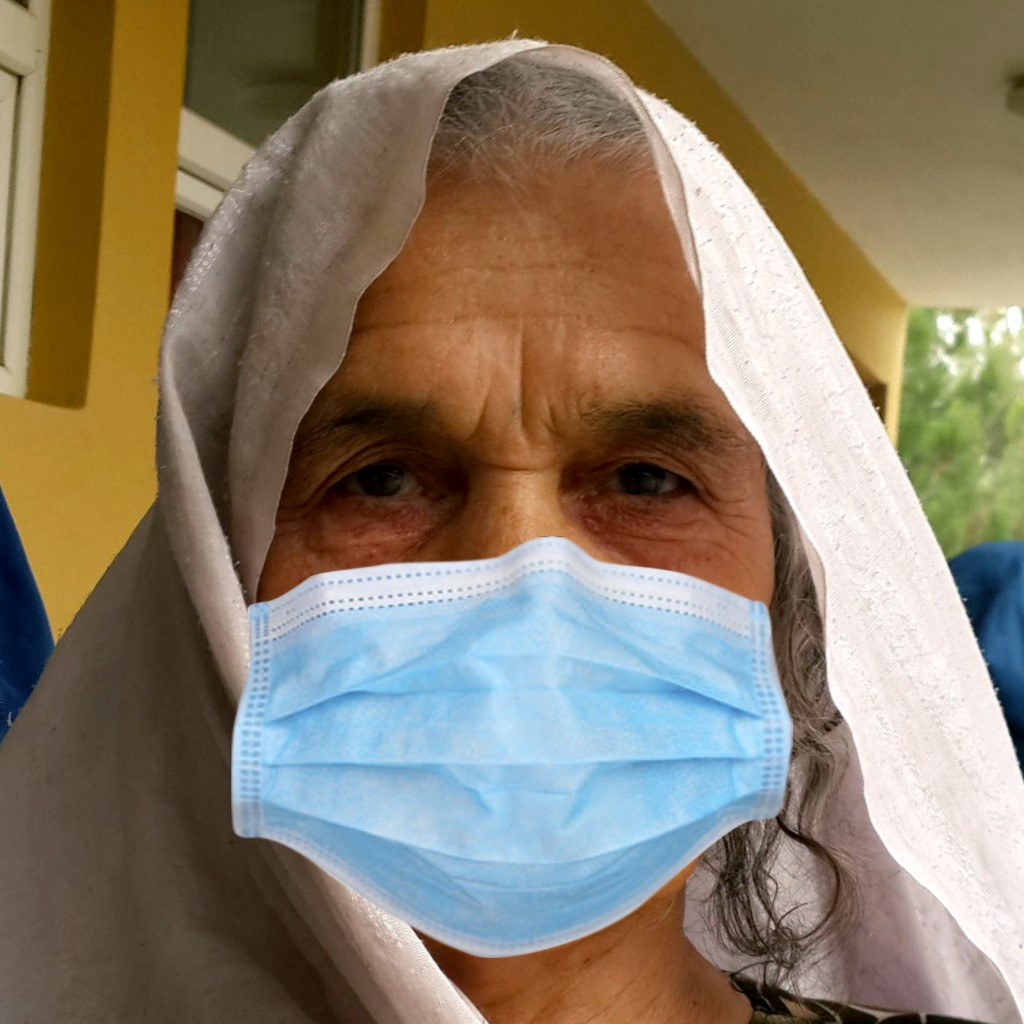con_mascara: (221, 116, 784, 937)
